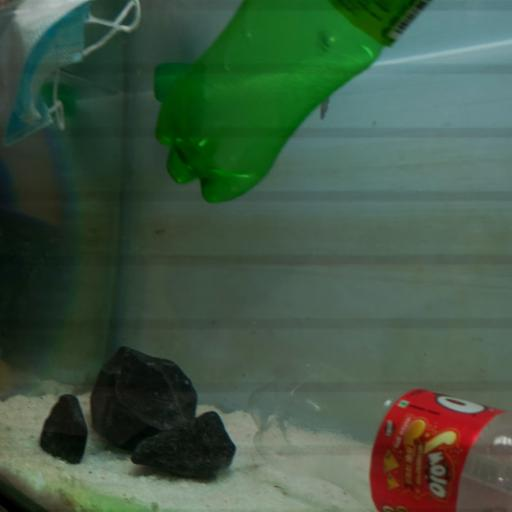bottle_cap: (154, 82, 174, 100)
mask: (2, 0, 141, 151)
plastic_bottle: (154, 0, 430, 201), (247, 357, 512, 512)
